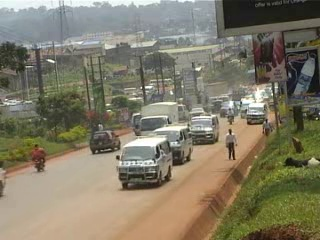Car: (87, 129, 123, 156), (218, 99, 240, 118), (188, 105, 208, 119)
Motorcycle: (29, 140, 47, 173), (224, 107, 235, 124)
